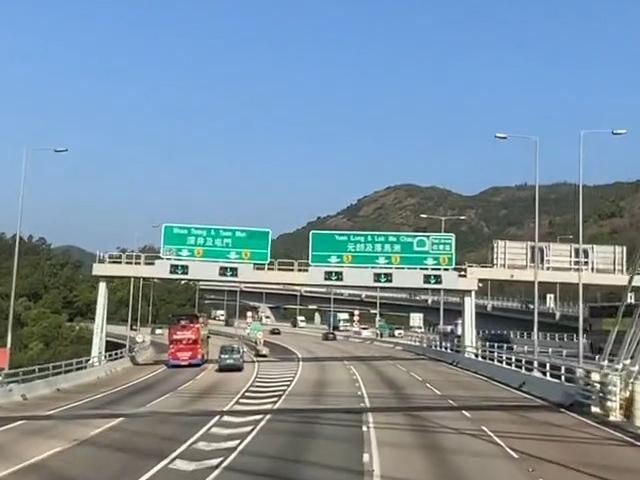bus: (166, 316, 206, 368)
car: (216, 345, 246, 372), (322, 329, 337, 341), (151, 326, 167, 337), (269, 326, 282, 335)
